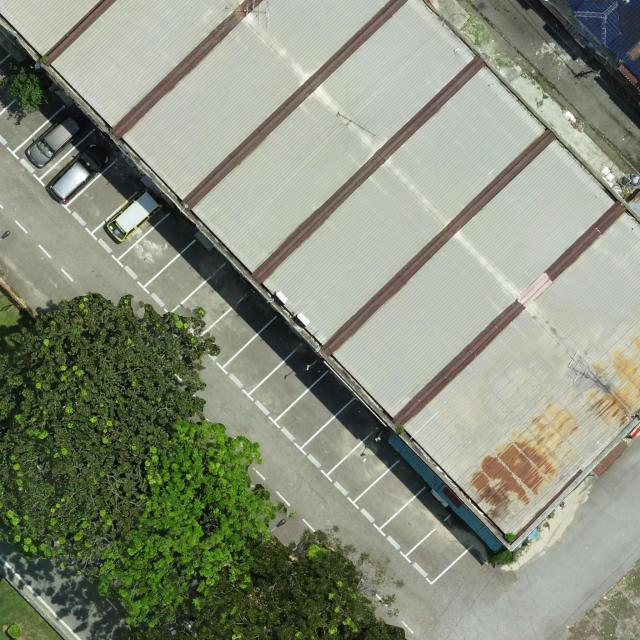Tree: (0, 289, 220, 573), (85, 417, 291, 628), (126, 527, 409, 640), (0, 60, 49, 114)
